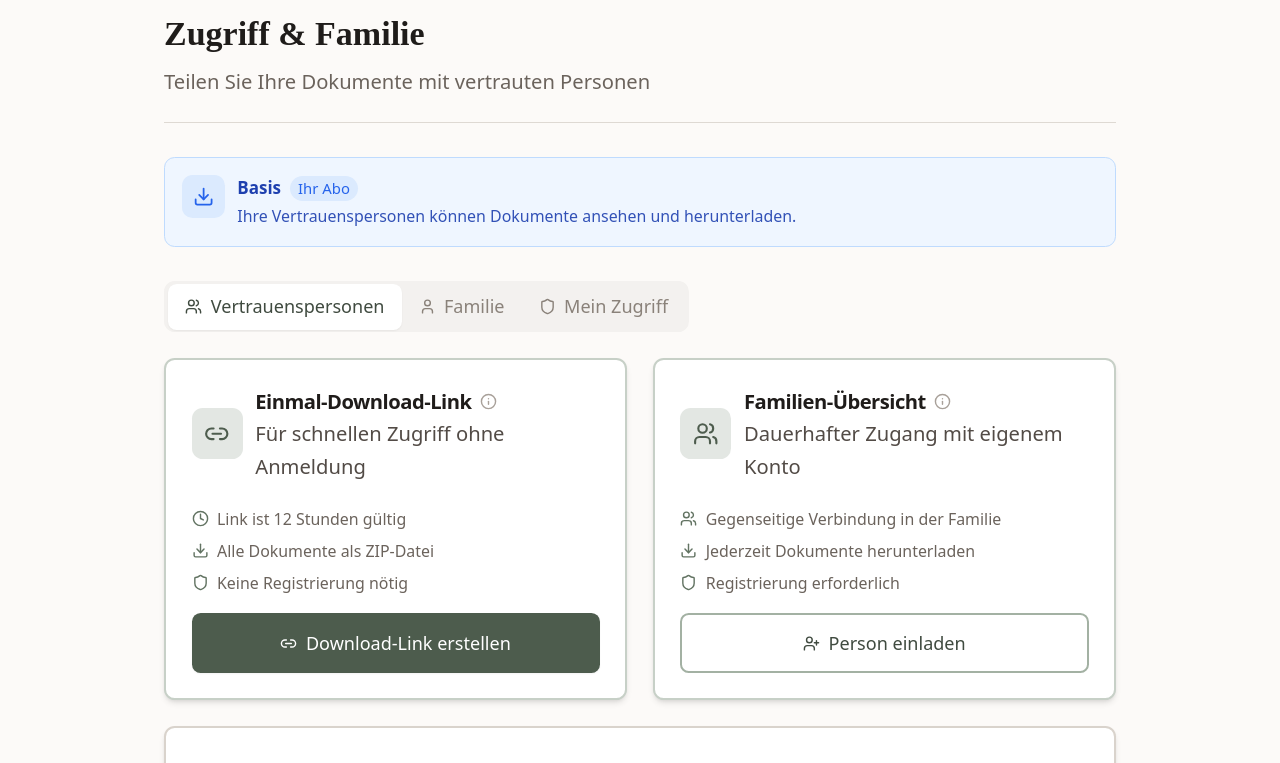
Test: ZugriffPage Familie Tab Full Integration › Familie Tab Empty States › should show empty state when no family members exist
Expected: the heading "Zugriff & Familie" is shown, left=164, top=15, right=425, bottom=52
Click the tab "Familie".
click(462, 307)  # box left=402, top=284, right=522, bottom=330
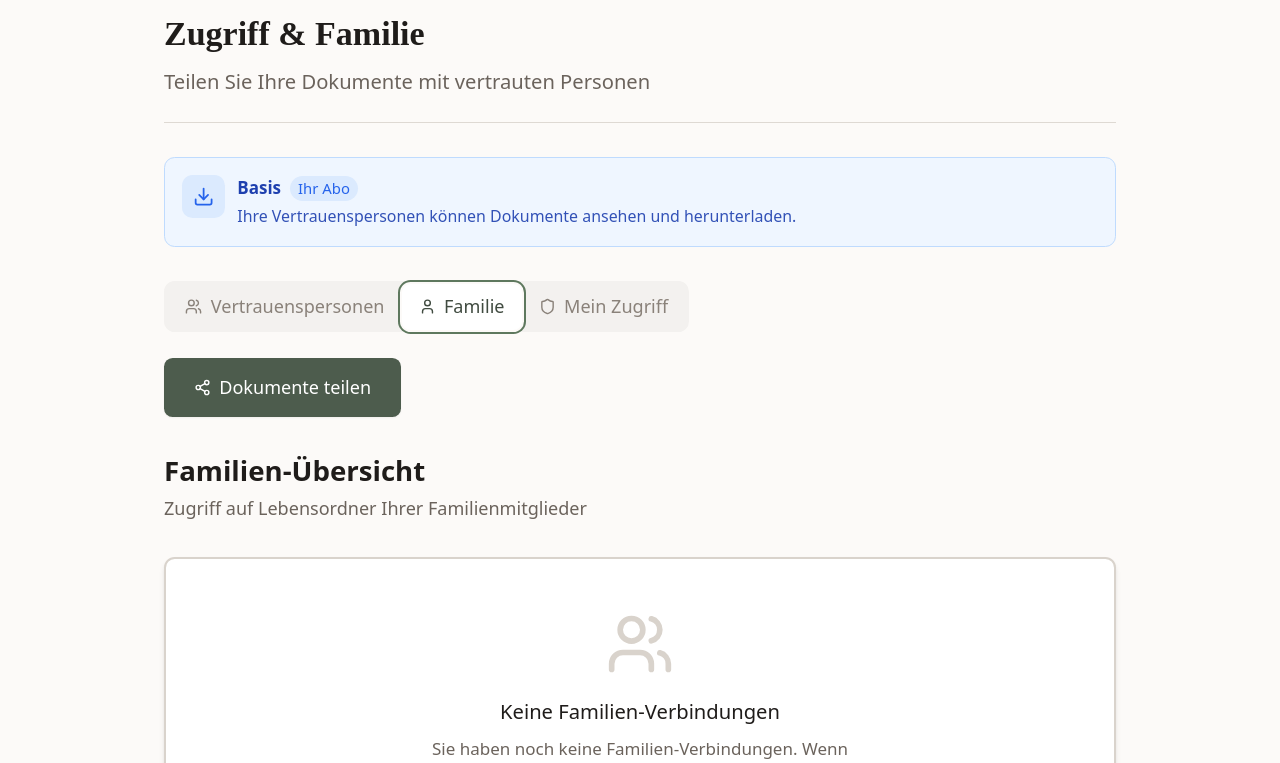
Now the heading "Keine Familien-Verbindungen" is shown, box left=500, top=697, right=780, bottom=725
